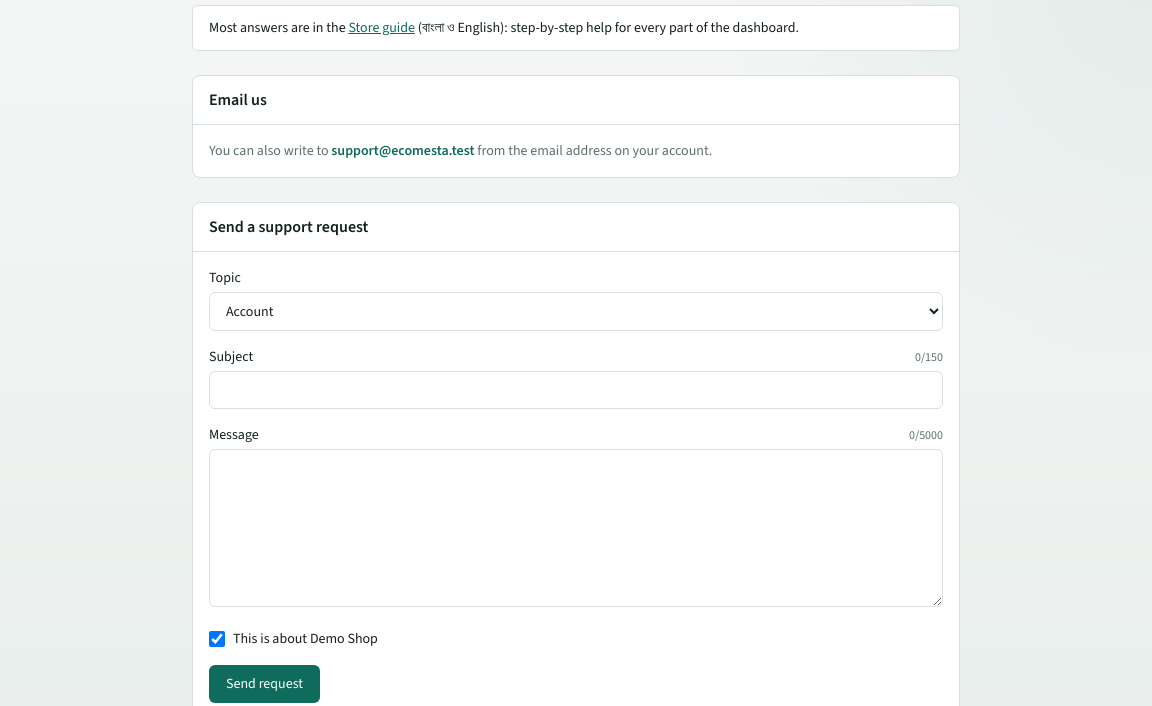
Test: Support page › validates the subject and message
The width and height of the screenshot is (1152, 706).
(page scrolled)
Click the button "Send request": (264,684) [209,665,320,703]
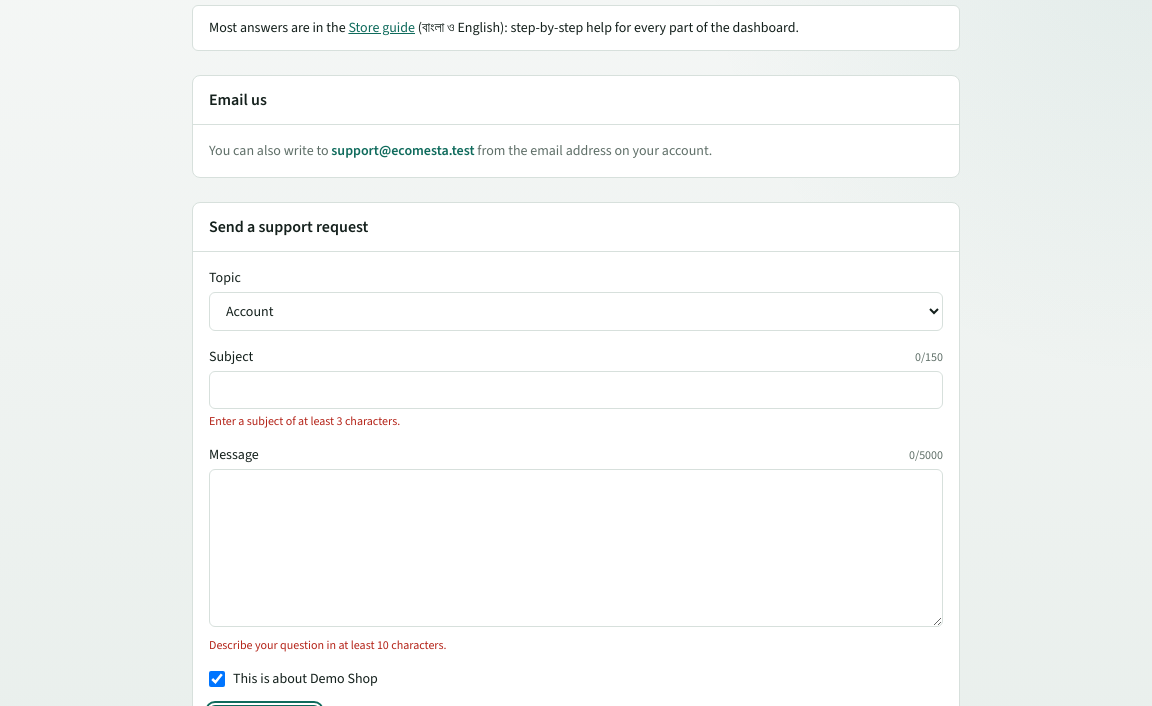
Check: the text "Enter a subject of at least 3 characters." is shown, box [209,413,400,429]
Check: the text "Describe your question in at least 10 characters." is shown, box [209,637,446,653]
